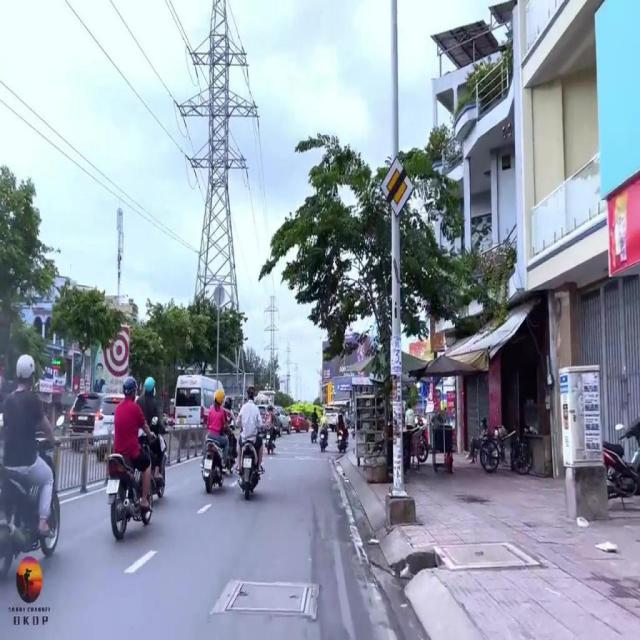duong_het_uu_tien: (379, 154, 415, 217)
